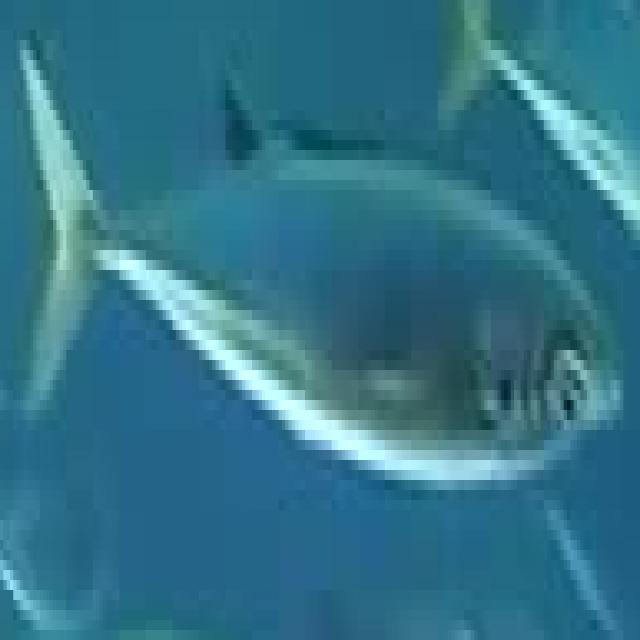fish: (0, 0, 637, 630)
